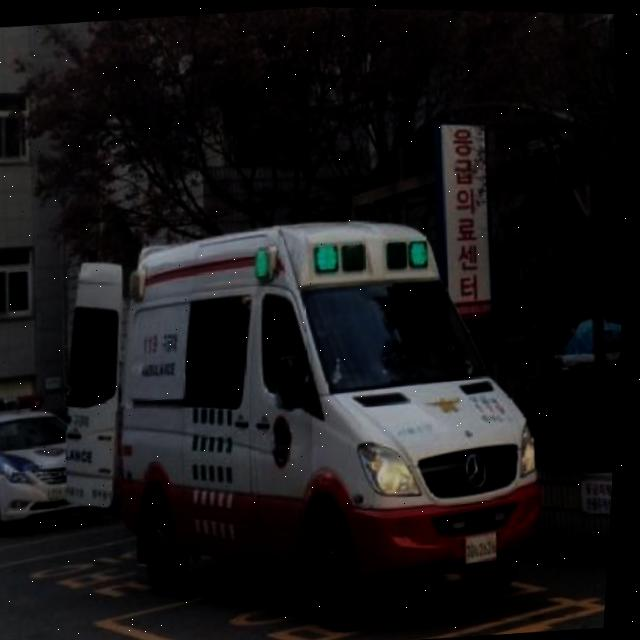emergency: (41, 194, 573, 640), (0, 387, 97, 535)
